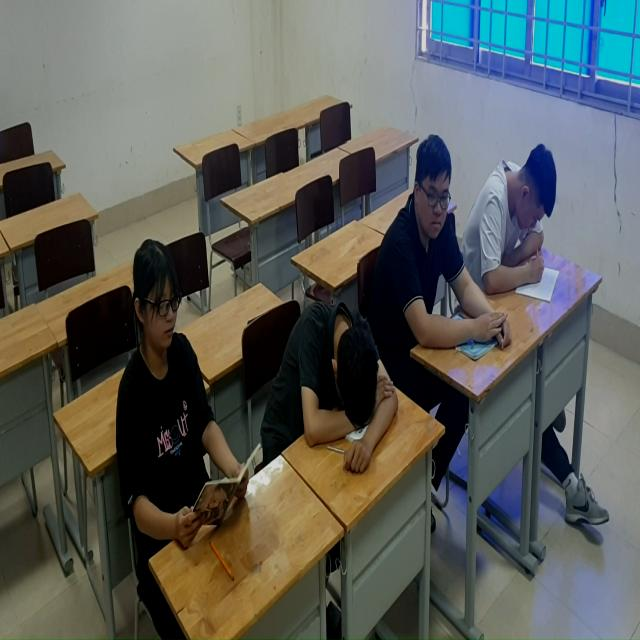read: (106, 228, 260, 564), (380, 128, 512, 356), (474, 133, 562, 309)
sleep: (260, 287, 400, 480)
